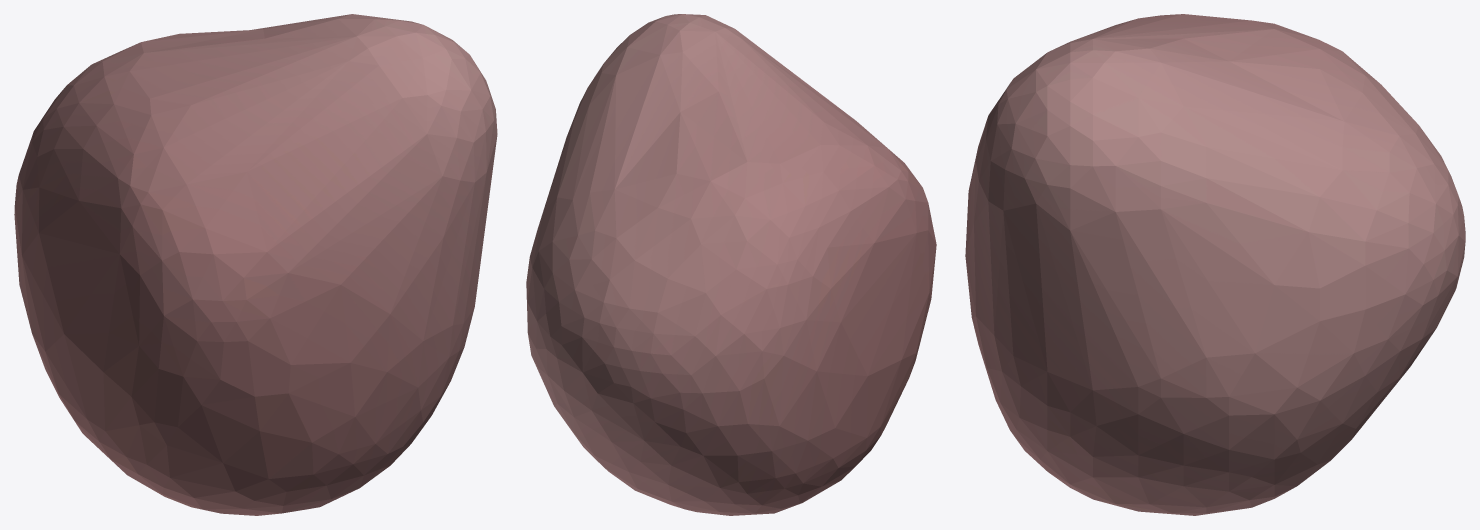
File: Mammillary_bodies.obj
3 renders of one model, left to right at view 1: azimuth 30°, elevation 25°; view 2: azimuth 150°, elevation 25°; view 3: azimuth 270°, elevation 25°, orthographic. The views are drawn at different scales.
Visible parts, largest first — view 1: obj0; view 2: obj0; view 3: obj0.
Boxes of the visible parts, x1,y1,x2,y2 form: obj0: [14, 14, 497, 515]; obj0: [526, 14, 936, 515]; obj0: [965, 14, 1465, 515].
Bounding box in the file's own units: 1.93 × 2.41 × 2.23.
Materials: 1 (1 with a texture image).
